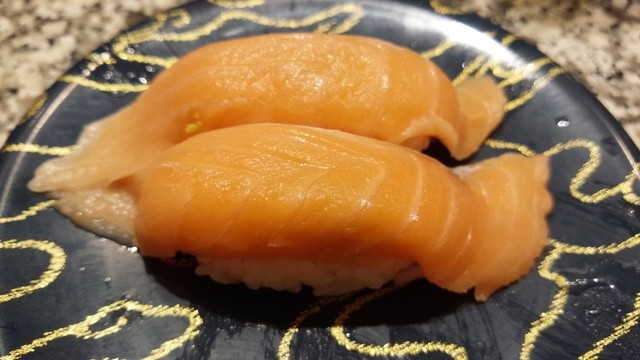salmon: (128, 123, 556, 315)
